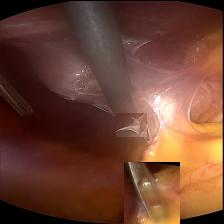Grasper: (124, 161, 180, 223), (0, 74, 40, 120)
Hook: (116, 112, 147, 136)
